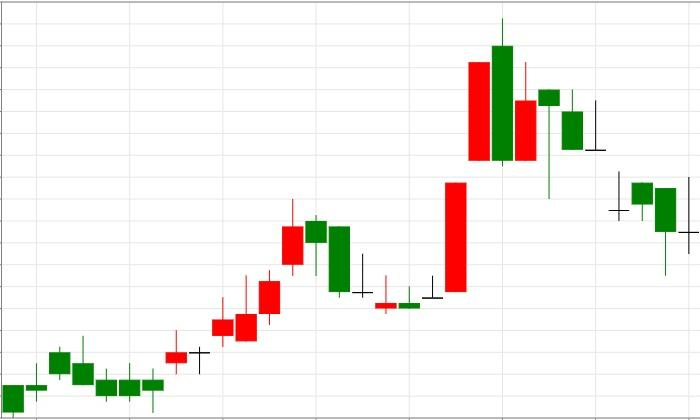bearish_engulfing_fall: (375, 18, 513, 314)
